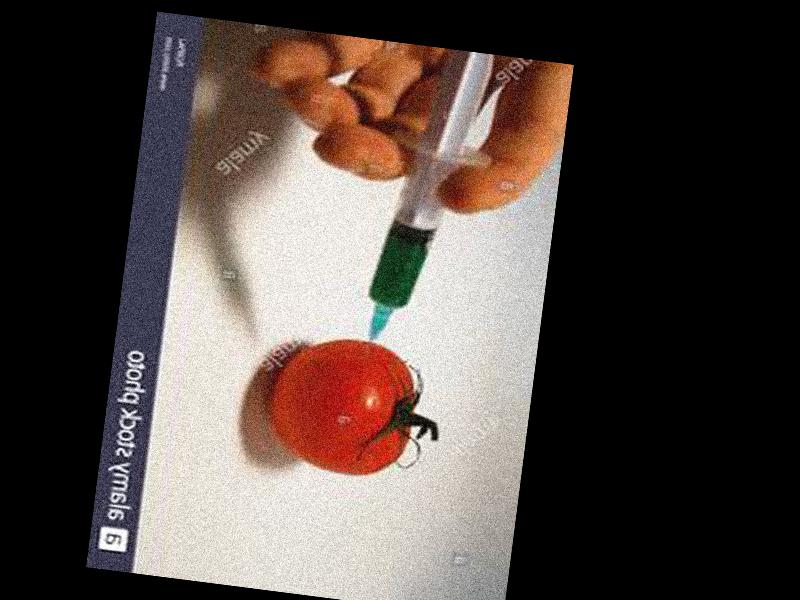Tomato: (263, 330, 420, 479)
